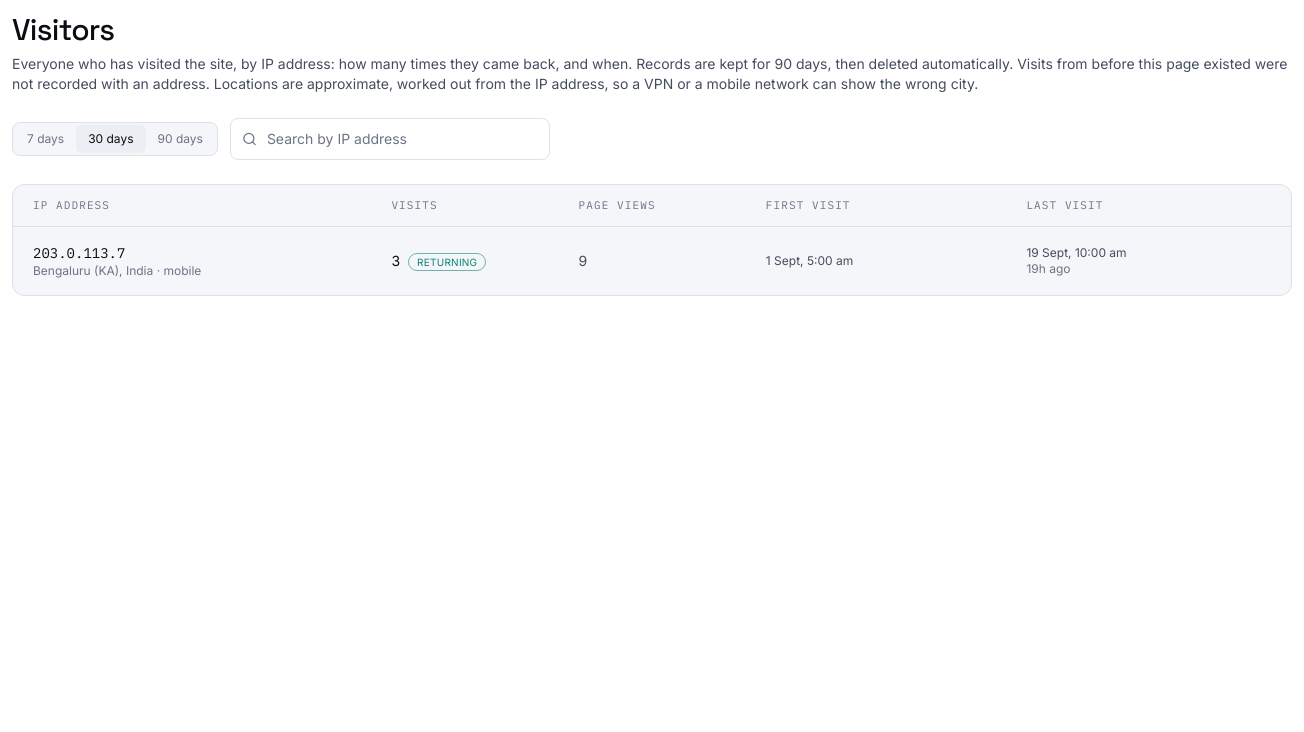
Test case: admin visitors › warns that several devices on one address may be several people
Click the button "203.0.113.7" at {"x": 79, "y": 252}, box left=13, top=226, right=1291, bottom=294
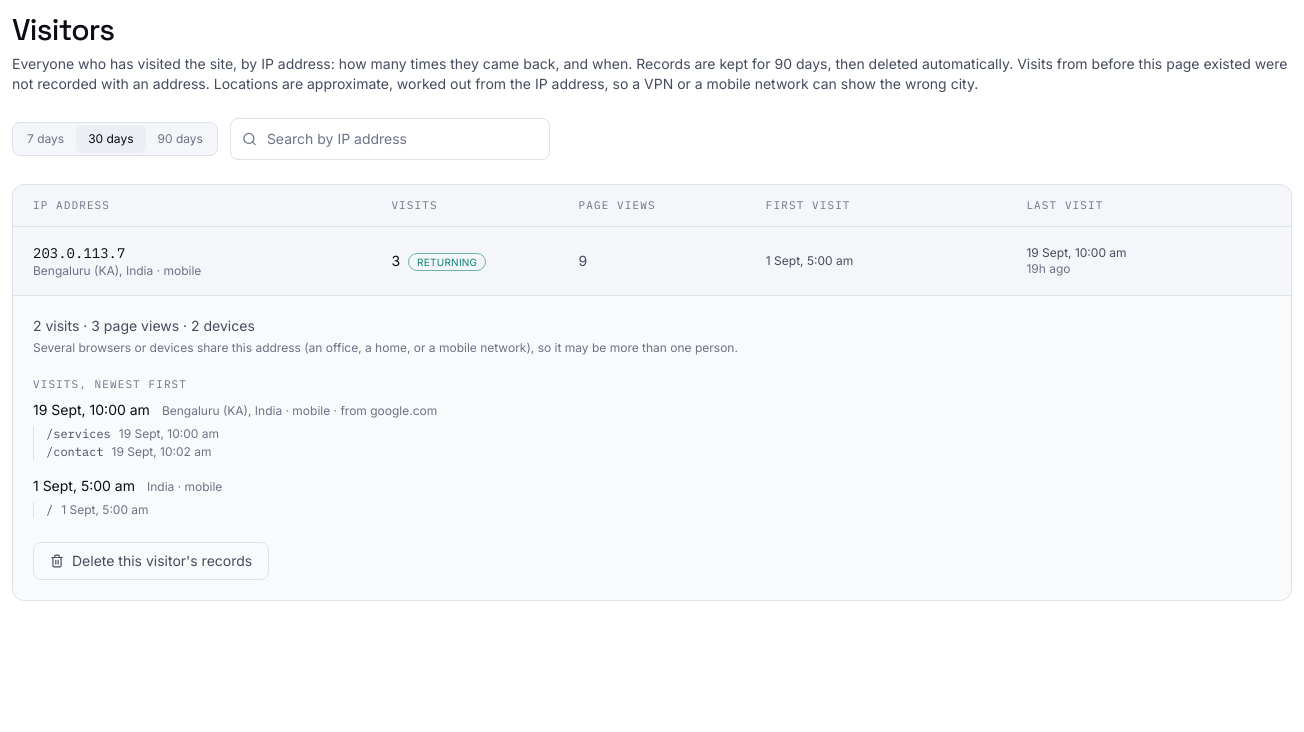
Expected: the text "share this address" is shown, left=33, top=340, right=738, bottom=354
